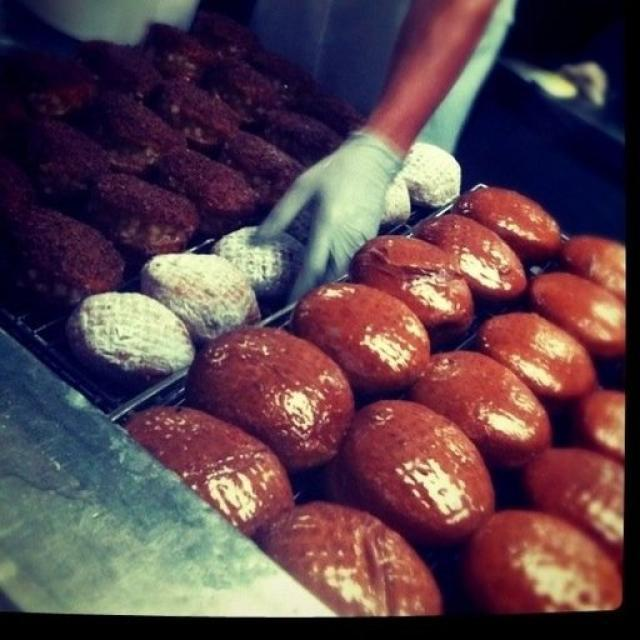Donuts: (14, 24, 640, 640)
